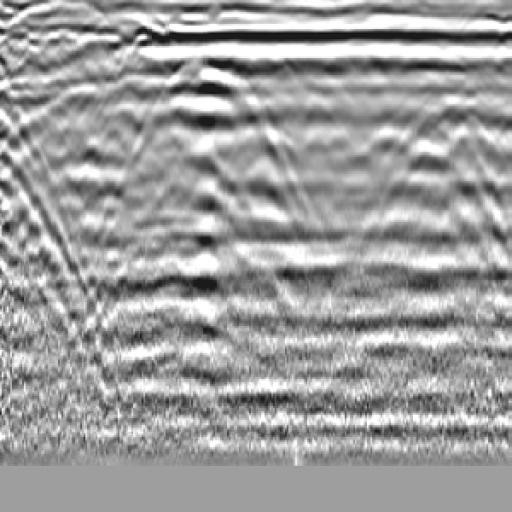metalic: (137, 57, 282, 140)
